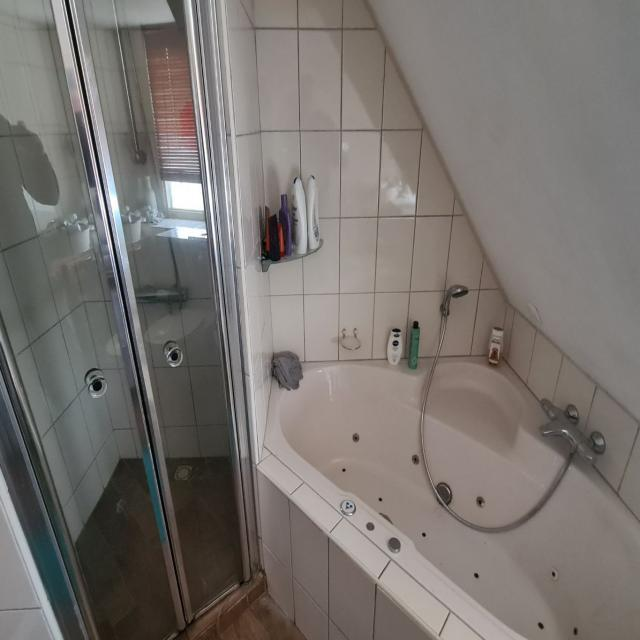bath: (266, 347, 640, 640)
douche: (0, 0, 266, 640)
